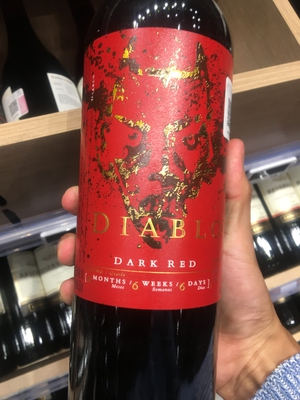diablo dark red: (64, 8, 256, 400)
